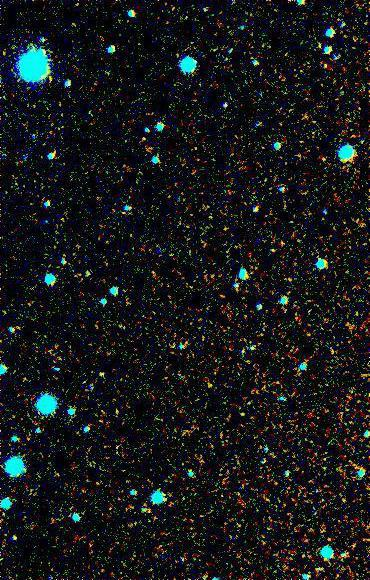star: (128, 124, 158, 154)
